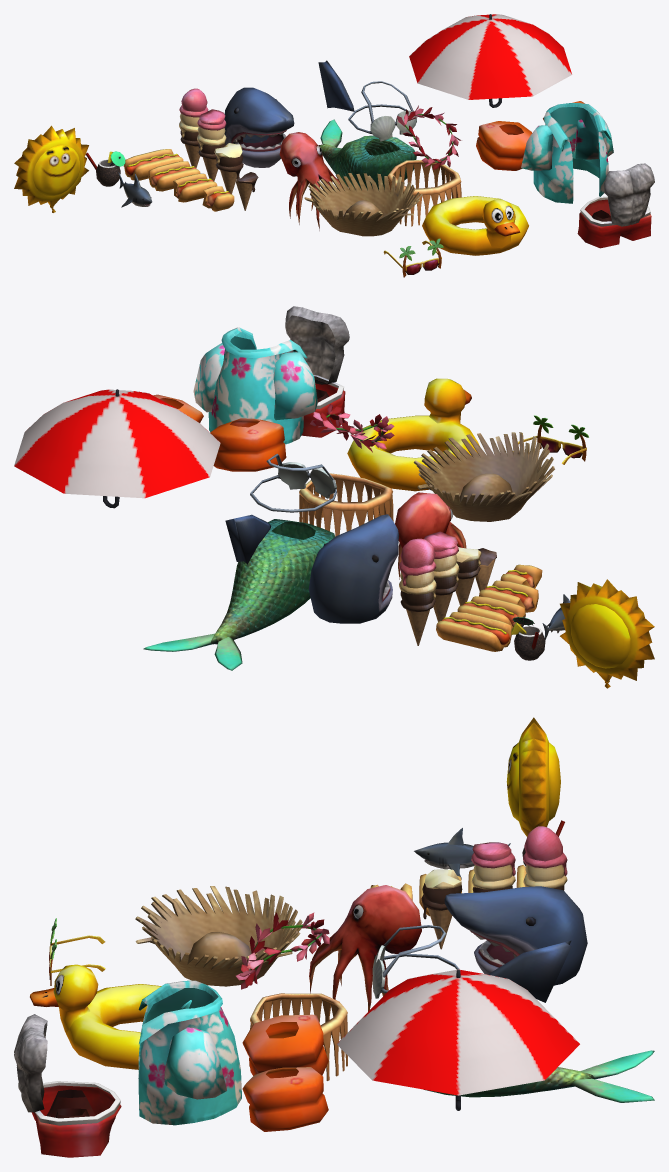
The model's file is gorilla_tag_summer_splash_cosmetics.glb.
The picture shows the model from 3 angles, top to bottom: view 1: azimuth 30°, elevation 25°; view 2: azimuth 150°, elevation 25°; view 3: azimuth 270°, elevation 25°; orthographic projection. The views are drawn at different scales.
Visible parts, largest first — view 1: SpiderWebUmbrella__05BeachCosmeticsAtlas_mat__MainTex_atlas_, BeachHat, DuckFloaty, MuscleTrunks, SummerHawaiinShirt__05BeachCosmeticsAtlas_mat__MainTex_atlas, SunBalloon, SharkHead, MermaidTail, HulaSkirt, OctopusHat, FloatiesArmRight, IceCreamCone_Bite01__05BeachCosmeticsAtlas_mat__MainTex_atla (+14 smaller); view 2: SpiderWebUmbrella__05BeachCosmeticsAtlas_mat__MainTex_atlas_, MermaidTail, BeachHat, SharkHead, SunBalloon, DuckFloaty, SummerHawaiinShirt__05BeachCosmeticsAtlas_mat__MainTex_atlas, HulaSkirt, MuscleTrunks, FloatiesArmRight, IceCreamCone_Bite00__05BeachCosmeticsAtlas_mat__MainTex_atla, SummerHawaiinShirtArmRight__05BeachCosmeticsAtlas_mat__MainT (+13 smaller); view 3: SpiderWebUmbrella__05BeachCosmeticsAtlas_mat__MainTex_atlas_, BeachHat, SummerHawaiinShirt__05BeachCosmeticsAtlas_mat__MainTex_atlas, SharkHead, MuscleTrunks, DuckFloaty, OctopusHat, HulaSkirt, SunBalloon, FloatiesArmLeft__05BeachCosmeticsAtlas_mat__MainTex_atlas_0_, FloatiesArmRight, SummerHawaiinShirtArmLeft__05BeachCosmeticsAtlas_mat__MainTe (+7 smaller).
Boxes of the visible parts, x1,y1,x2,y2 form: SpiderWebUmbrella__05BeachCosmeticsAtlas_mat__MainTex_atlas_: [409, 14, 572, 107]; BeachHat: [304, 173, 422, 236]; DuckFloaty: [422, 196, 528, 255]; MuscleTrunks: [577, 163, 654, 248]; SummerHawaiinShirt__05BeachCosmeticsAtlas_mat__MainTex_atlas: [533, 103, 611, 203]; SunBalloon: [14, 125, 88, 212]; SharkHead: [224, 87, 294, 167]; MermaidTail: [319, 119, 416, 190]; HulaSkirt: [387, 105, 461, 226]; OctopusHat: [279, 132, 342, 230]; FloatiesArmRight: [476, 121, 531, 170]; IceCreamCone_Bite01__05BeachCosmeticsAtlas_mat__MainTex_atla: [197, 109, 226, 181]; SpiderWebUmbrella__05BeachCosmeticsAtlas_mat__MainTex_atlas_: [14, 389, 220, 508]; MermaidTail: [143, 519, 335, 670]; BeachHat: [413, 432, 554, 521]; SharkHead: [308, 514, 398, 623]; SunBalloon: [560, 579, 654, 688]; DuckFloaty: [347, 378, 479, 491]; SummerHawaiinShirt__05BeachCosmeticsAtlas_mat__MainTex_atlas: [208, 327, 307, 444]; HulaSkirt: [299, 404, 394, 536]; MuscleTrunks: [285, 306, 349, 437]; FloatiesArmRight: [210, 418, 286, 471]; IceCreamCone_Bite00__05BeachCosmeticsAtlas_mat__MainTex_atla: [399, 538, 436, 645]; SummerHawaiinShirtArmRight__05BeachCosmeticsAtlas_mat__MainT: [273, 352, 317, 420]; SpiderWebUmbrella__05BeachCosmeticsAtlas_mat__MainTex_atlas_: [337, 969, 579, 1110]; BeachHat: [135, 886, 302, 986]; SummerHawaiinShirt__05BeachCosmeticsAtlas_mat__MainTex_atlas: [138, 980, 241, 1125]; SharkHead: [444, 886, 587, 985]; MuscleTrunks: [14, 1014, 121, 1157]; DuckFloaty: [30, 964, 161, 1069]; OctopusHat: [309, 885, 421, 1011]; HulaSkirt: [236, 912, 347, 1080]; SunBalloon: [506, 717, 560, 836]; FloatiesArmLeft__05BeachCosmeticsAtlas_mat__MainTex_atlas_0_: [242, 1067, 328, 1131]; FloatiesArmRight: [242, 1014, 328, 1075]; SummerHawaiinShirtArmLeft__05BeachCosmeticsAtlas_mat__MainTe: [164, 1027, 226, 1099].
Bounding box in the file's own units: 3.19 × 0.8433 × 2.34.
Materials: 2 (2 with a texture image).
